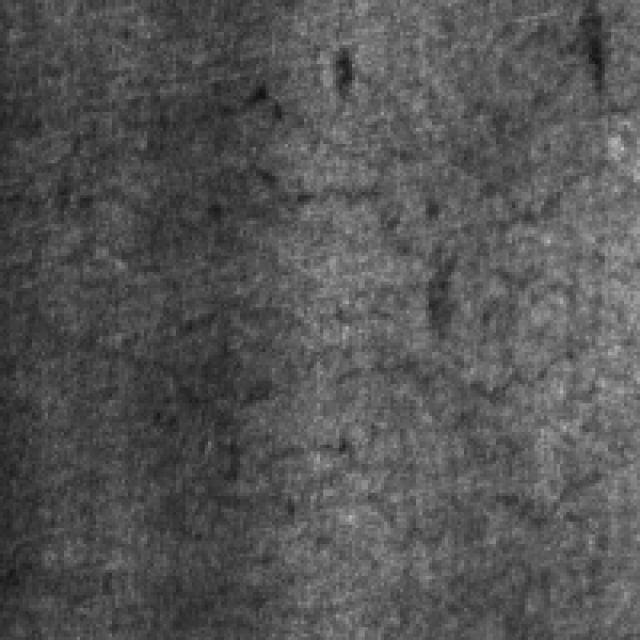crazing: (77, 84, 582, 518)
